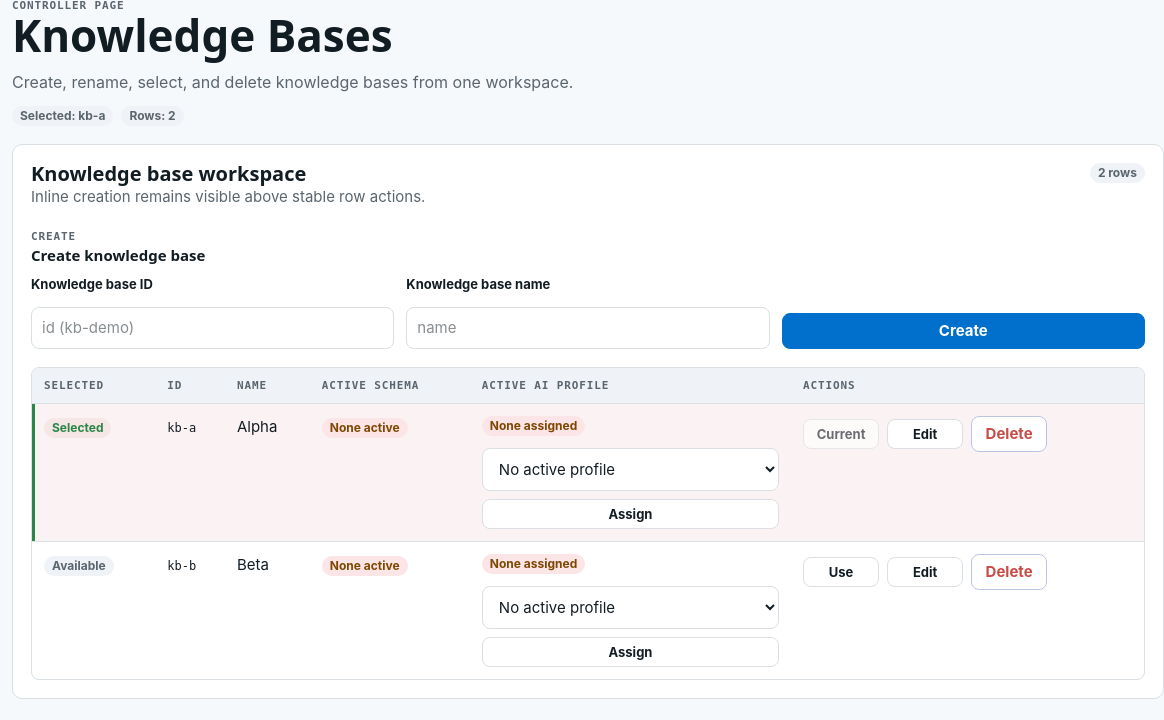
Test: knowledge bases page › clears selected knowledge base after deleting the selected row
Expected: the text "Selected" is shown, [44,418,112,438]
Click the button "Delete" in the row of "Alpha" at (1009, 434), box [971,416,1047,452]
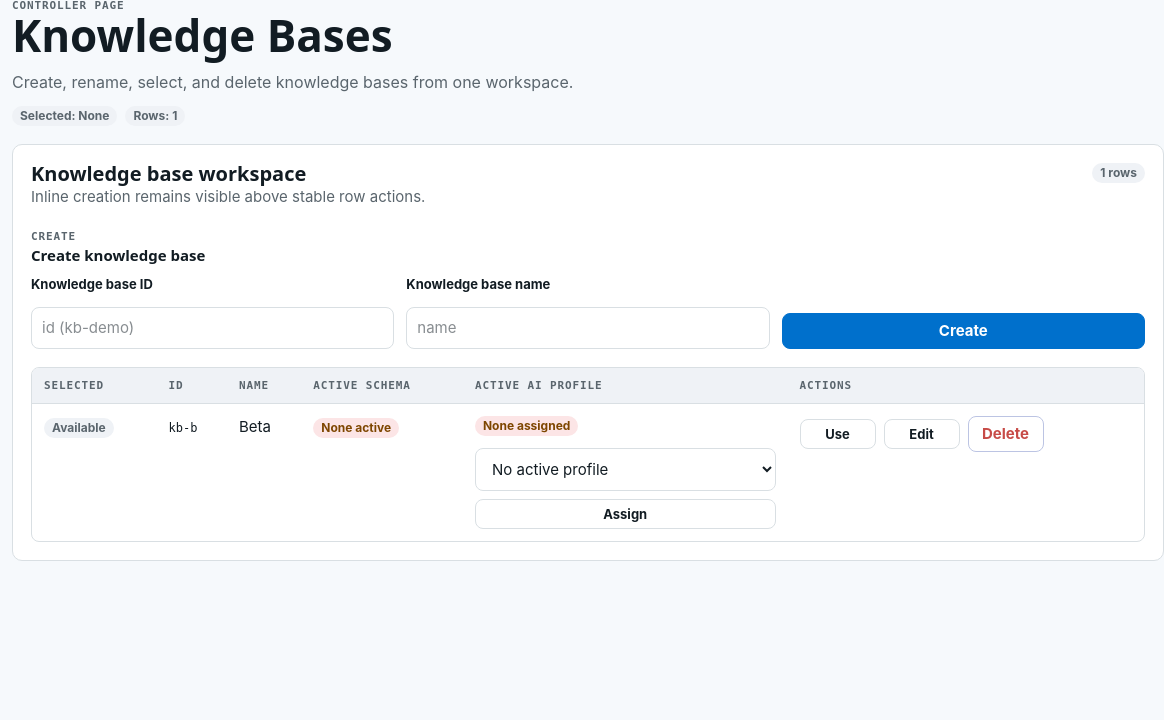
Expected: the text "Alpha" is gone
